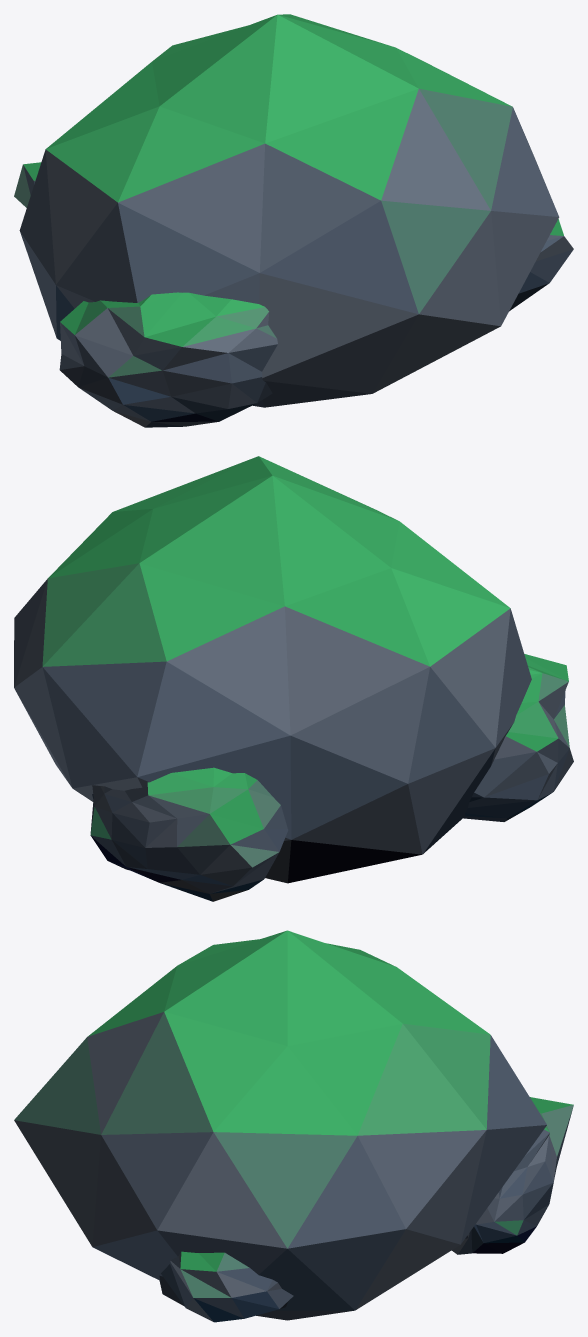
Rendered from batu_boulder_granite_788174.glb.
3 renders of one model, top to bottom at view 1: azimuth 30°, elevation 25°; view 2: azimuth 150°, elevation 25°; view 3: azimuth 270°, elevation 25°, orthographic. The views are drawn at different scales.
Visible parts, largest first — view 1: Batu_Jeram_Sungai; view 2: Batu_Jeram_Sungai; view 3: Batu_Jeram_Sungai.
Part boxes in pixels (x1,y1,x2,y2): Batu_Jeram_Sungai: [14, 14, 573, 427]; Batu_Jeram_Sungai: [14, 456, 573, 901]; Batu_Jeram_Sungai: [14, 930, 573, 1322].
Size of the model in its own units: 5.67 by 3.74 by 5.66.
